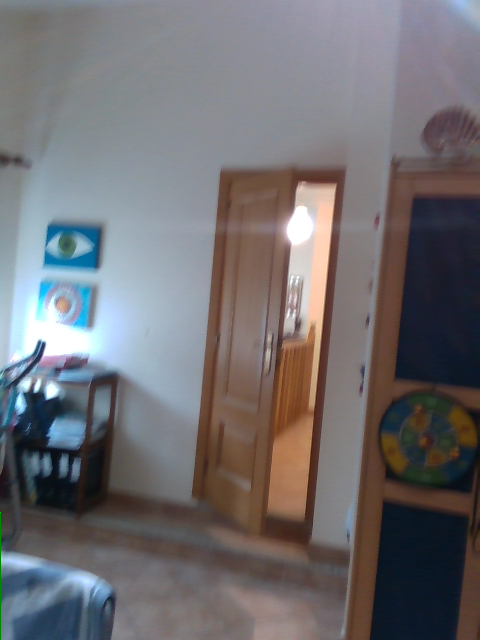semi: (192, 168, 347, 536)
